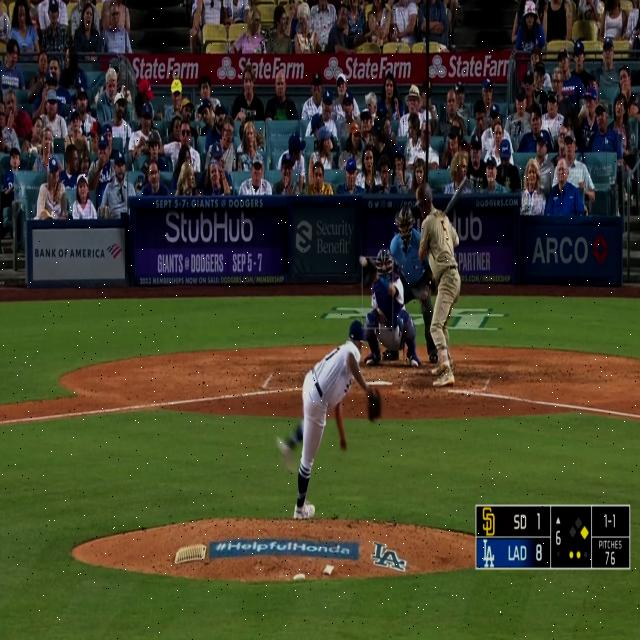baseball: (359, 255, 367, 267)
